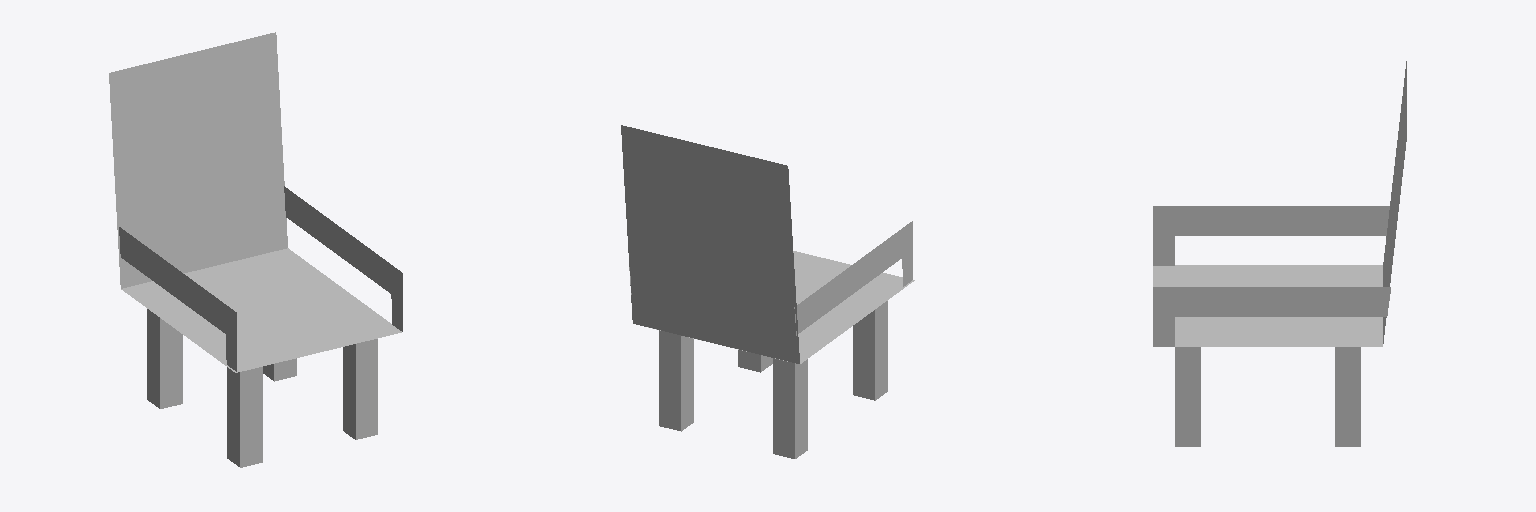
The model's file is chair.obj.
The picture shows the model from 3 angles: view 1: azimuth 30°, elevation 25°; view 2: azimuth 150°, elevation 25°; view 3: azimuth 270°, elevation 25°; orthographic projection.
Visible parts, largest first — view 1: Plane.002, Plane.001, Plane.005_Plane.006, Plane.003, Cube.002_Cube.003, Cube.003_Cube.004, Cube_Cube.001, Cube.001_Cube.002; view 2: Plane.002, Plane.001, Plane.003, Cube_Cube.001, Cube.001_Cube.002, Cube.002_Cube.003, Cube.003_Cube.004; view 3: Plane.001, Plane.005_Plane.006, Plane.003, Cube.001_Cube.002, Cube.003_Cube.004, Plane.002.
Boxes of the visible parts, <box> form: Plane.002: <box>109,32,287,288</box>; Plane.001: <box>121,248,401,372</box>; Plane.005_Plane.006: <box>284,186,402,331</box>; Plane.003: <box>119,227,236,371</box>; Cube.002_Cube.003: <box>227,367,262,467</box>; Cube.003_Cube.004: <box>343,339,377,439</box>; Cube_Cube.001: <box>147,309,182,408</box>; Cube.001_Cube.002: <box>263,358,296,381</box>; Plane.002: <box>621,125,799,363</box>; Plane.001: <box>648,251,914,363</box>; Plane.003: <box>794,221,912,335</box>; Cube_Cube.001: <box>773,358,807,458</box>; Cube.001_Cube.002: <box>659,330,693,431</box>; Cube.002_Cube.003: <box>853,301,887,400</box>; Cube.003_Cube.004: <box>738,350,772,372</box>; Plane.001: <box>1153,265,1382,346</box>; Plane.005_Plane.006: <box>1153,287,1390,346</box>; Plane.003: <box>1153,206,1389,265</box>; Cube.001_Cube.002: <box>1335,347,1360,446</box>; Cube.003_Cube.004: <box>1175,347,1200,446</box>; Plane.002: <box>1383,61,1406,343</box>.
Size of the model in its own units: 1.91 by 3.42 by 2.5.